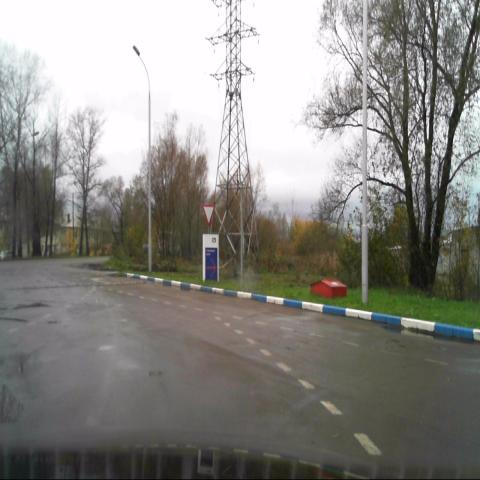2_4: (201, 204, 216, 226)
